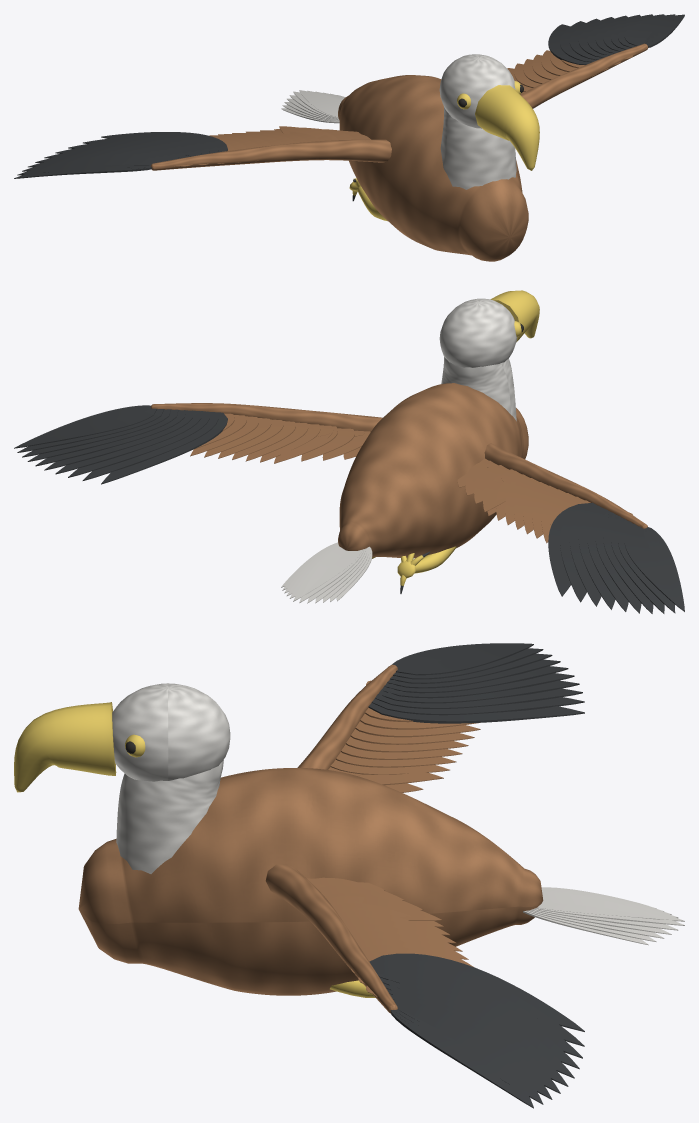
File: birds-and-reptiles-hd-bald-eagle-wings-spread-9400d2ba__28096.glb
3 views of the same model, one above another, from view 1: azimuth 30°, elevation 25°; view 2: azimuth 150°, elevation 25°; view 3: azimuth 270°, elevation 25° (orthographic). The views are drawn at different scales.
Visible parts, largest first — view 1: bald-eagle-wings-spread; view 2: bald-eagle-wings-spread; view 3: bald-eagle-wings-spread.
Part boxes in pixels (box(x1,y1,x2,y2)): bald-eagle-wings-spread: box(14, 14, 684, 261); bald-eagle-wings-spread: box(14, 290, 684, 613); bald-eagle-wings-spread: box(14, 643, 684, 1108).
Size of the model in its own units: 2.47 by 0.7424 by 1.51.
5 materials, 3 textured.
